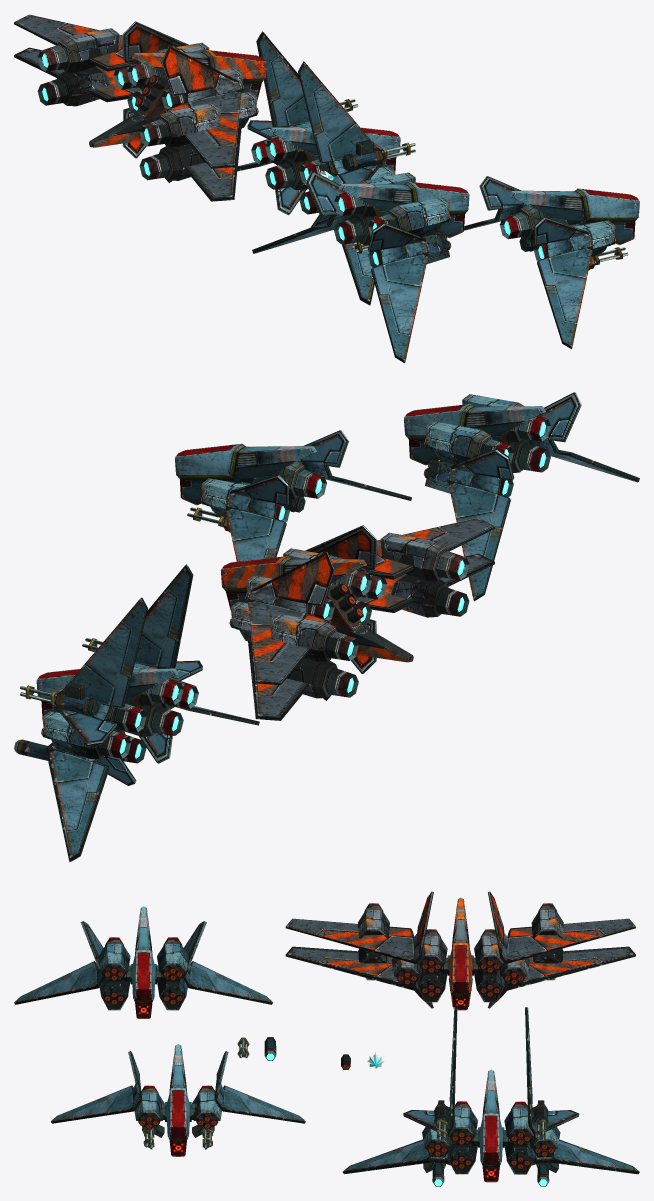
Rendered from drones.FBX.
3 renders of one model, top to bottom at view 1: azimuth 30°, elevation 25°; view 2: azimuth 150°, elevation 25°; view 3: azimuth 270°, elevation 25°, orthographic. The views are drawn at different scales.
Visible parts, largest first — view 1: drone_R, drone_H, drone_M, drone_L; view 2: drone_R, drone_H, drone_M, drone_L; view 3: drone_R, drone_H, drone_M, drone_L.
Part boxes in pixels (x1,y1,x2,y2): drone_R: [14, 14, 266, 201]; drone_H: [237, 31, 415, 305]; drone_M: [252, 171, 469, 363]; drone_L: [436, 176, 639, 349]; drone_R: [220, 518, 494, 720]; drone_H: [14, 564, 259, 862]; drone_M: [404, 392, 639, 601]; drone_L: [175, 430, 411, 561]; drone_R: [285, 891, 635, 1010]; drone_H: [342, 1007, 639, 1186]; drone_M: [14, 906, 273, 1018]; drone_L: [50, 1044, 305, 1156].
Size of the model in its own units: 457 by 758 by 295.
Materials: 3 (3 with a texture image).
